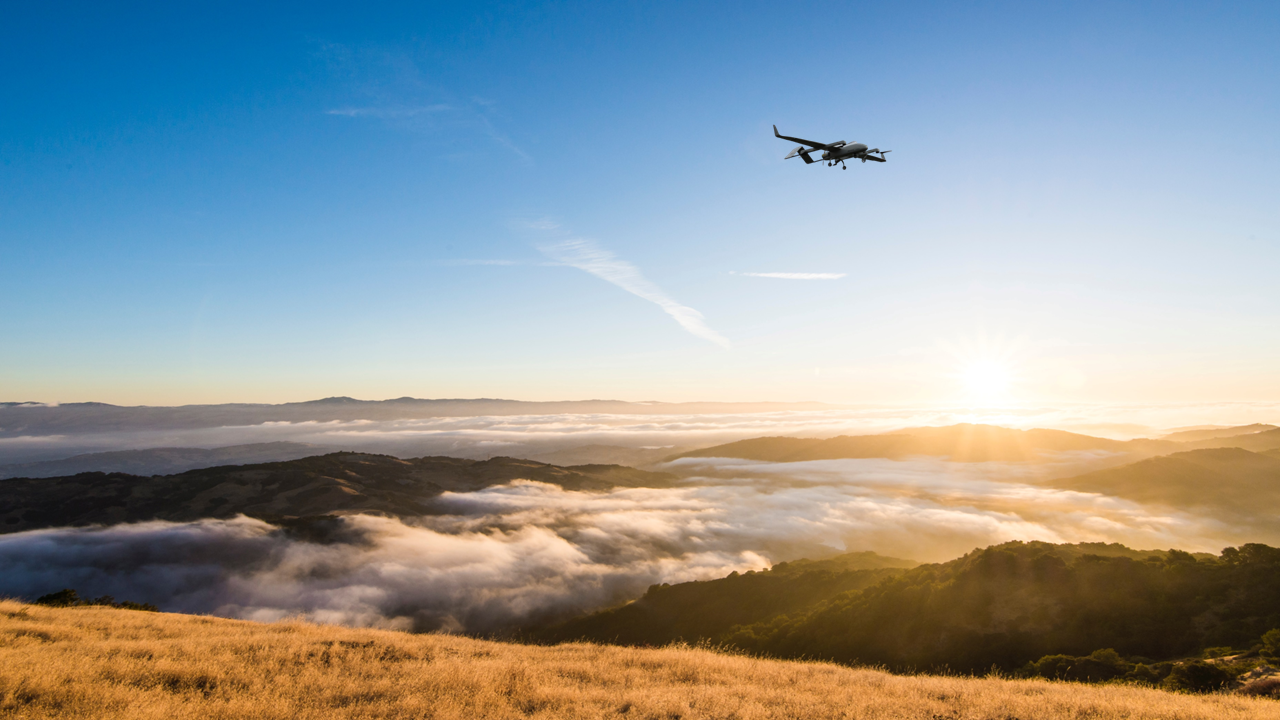military drone: (772, 124, 891, 170)
